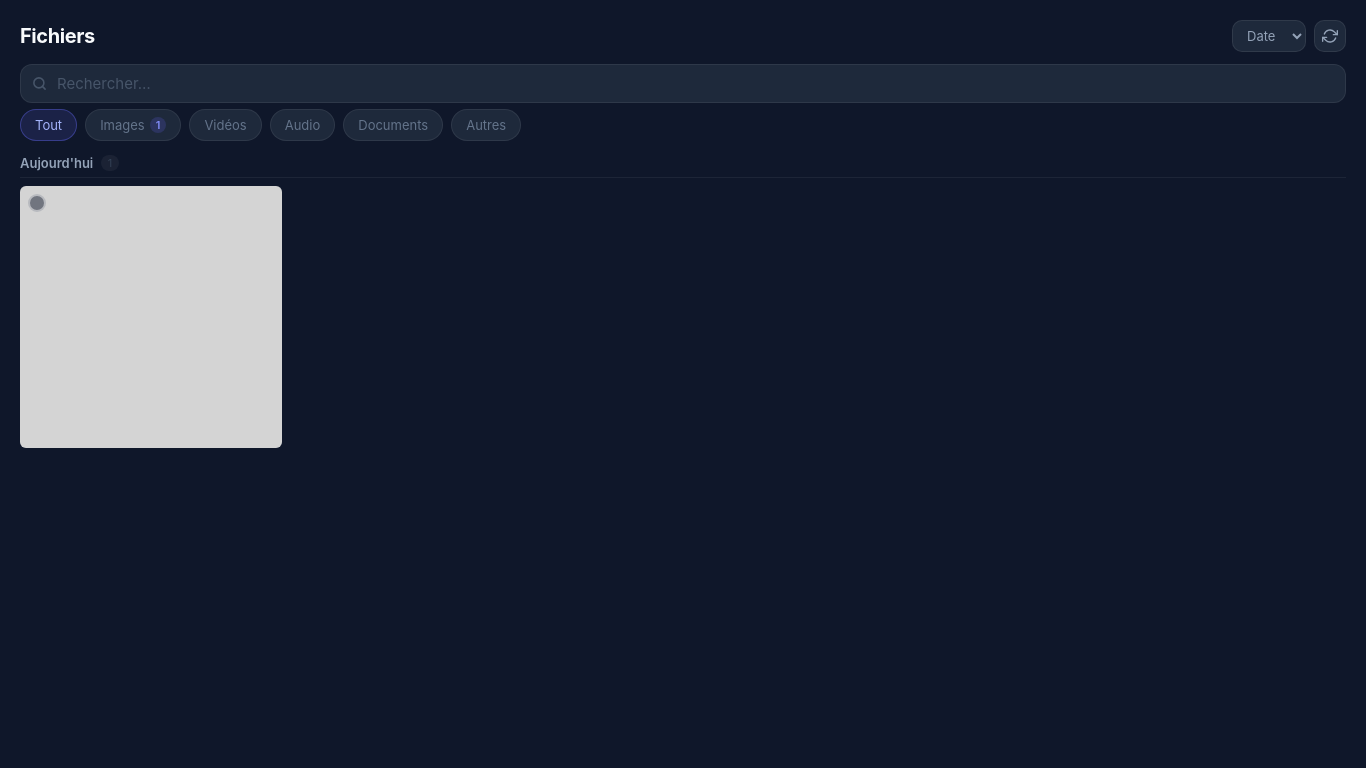
Scenario: TimelineView › selection and bulk delete › clears the selection from the floating bar without deleting anything
Click the element with class "cell-checkbox" at (37, 203), box [28, 194, 46, 212]
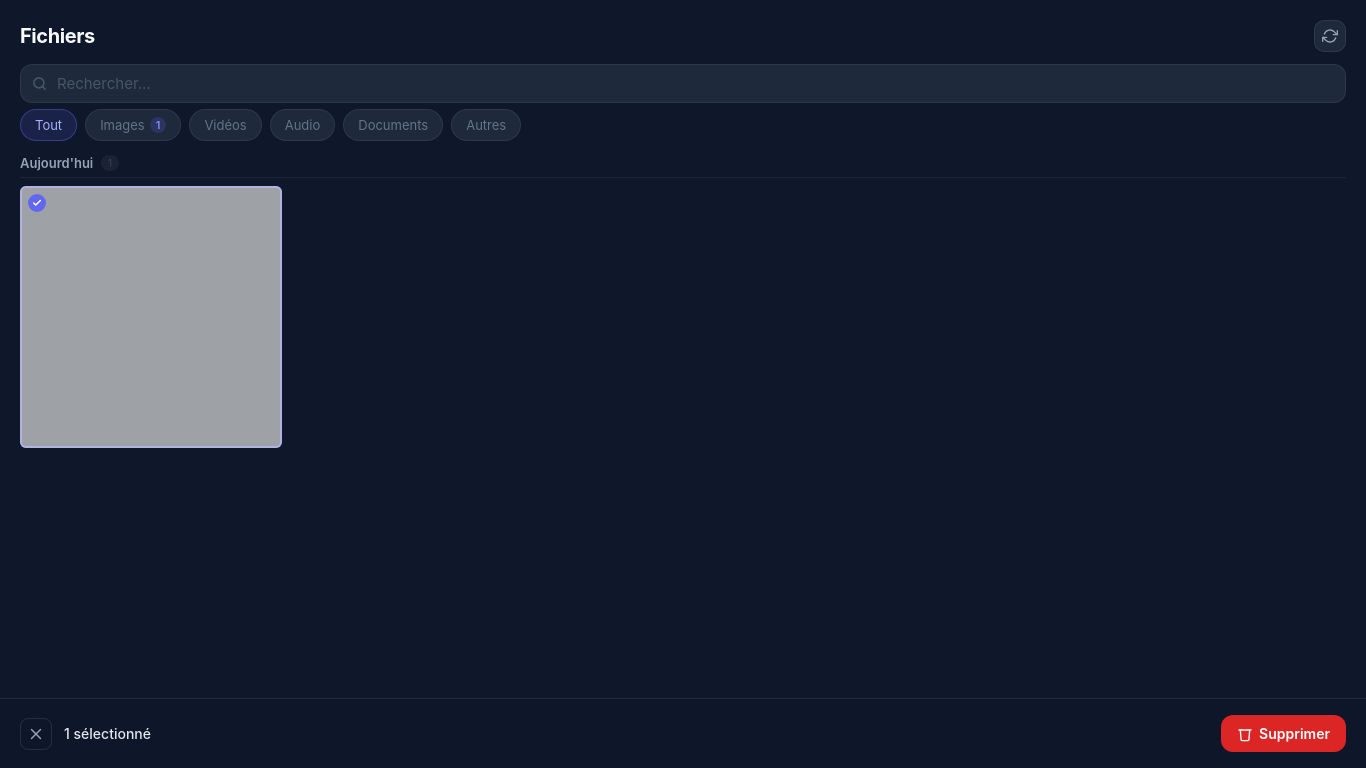
Expected: the element with class "selection-bar" is shown, [0, 698, 1365, 767]
Click the button titled "Annuler la sélection" at (36, 734), box [20, 718, 52, 750]
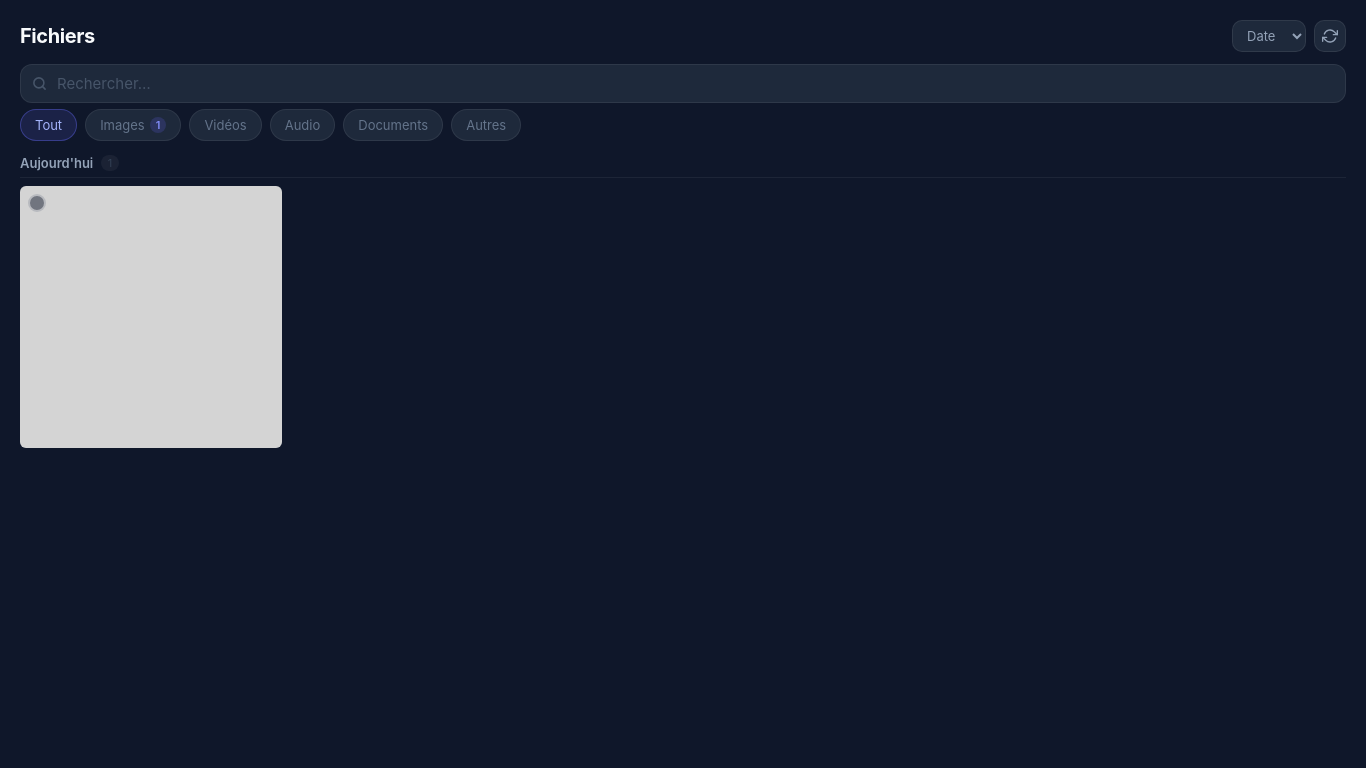
Expected: the element with class "selection-bar" is gone
